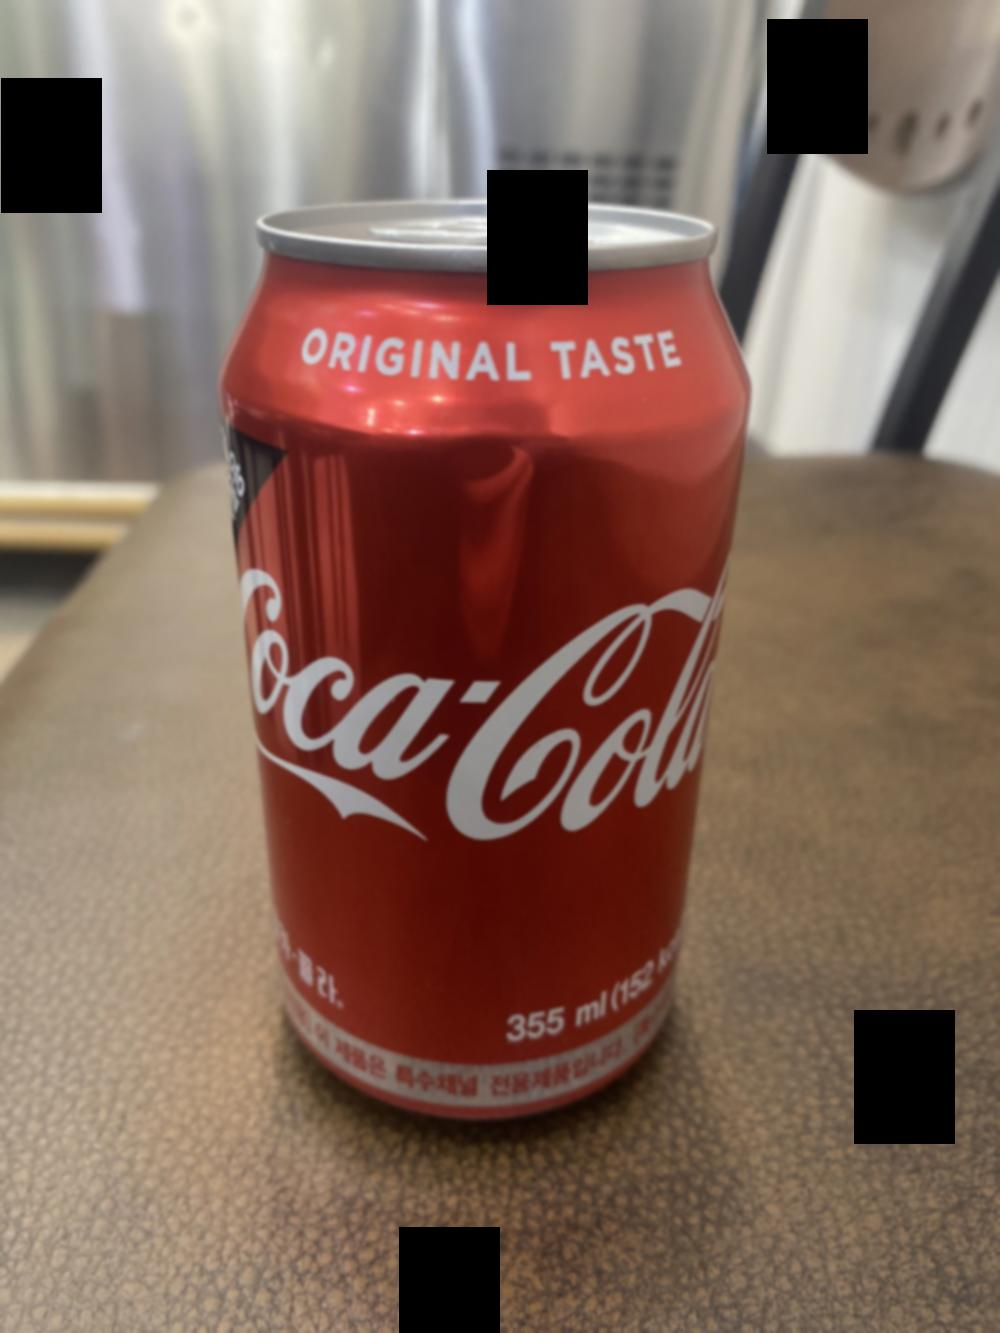cocacola: (208, 201, 747, 1155)
